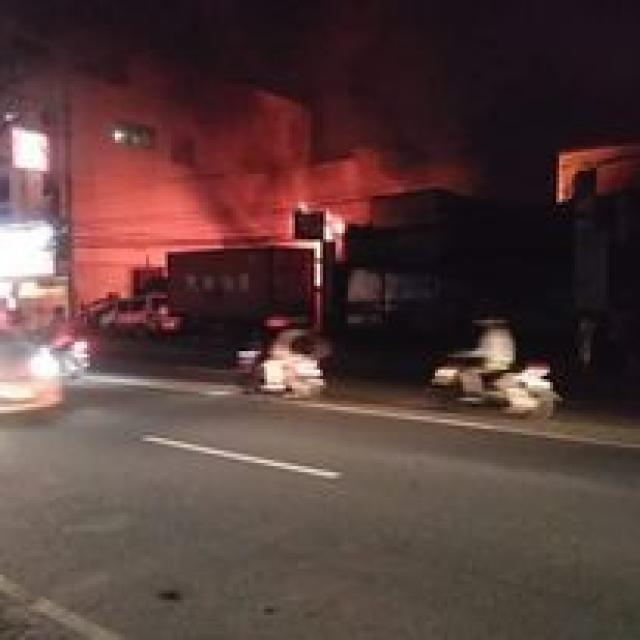Fire: (304, 190, 354, 264)
Smoke: (184, 48, 332, 224)
